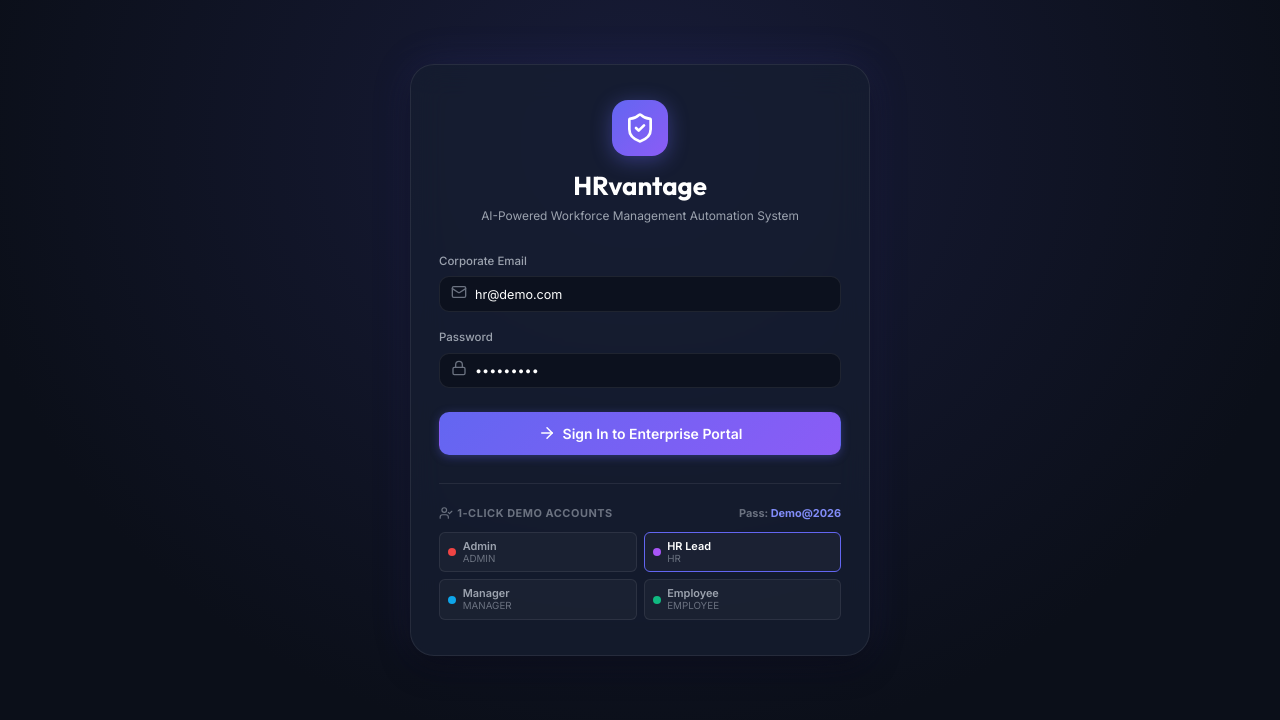
it: Authentication & Login Page Tests › displays error message on invalid credentials (401)
This screenshot has width=1280, height=720.
Click the button "Sign In to Enterprise Portal": (640, 434) [439,412,841,455]
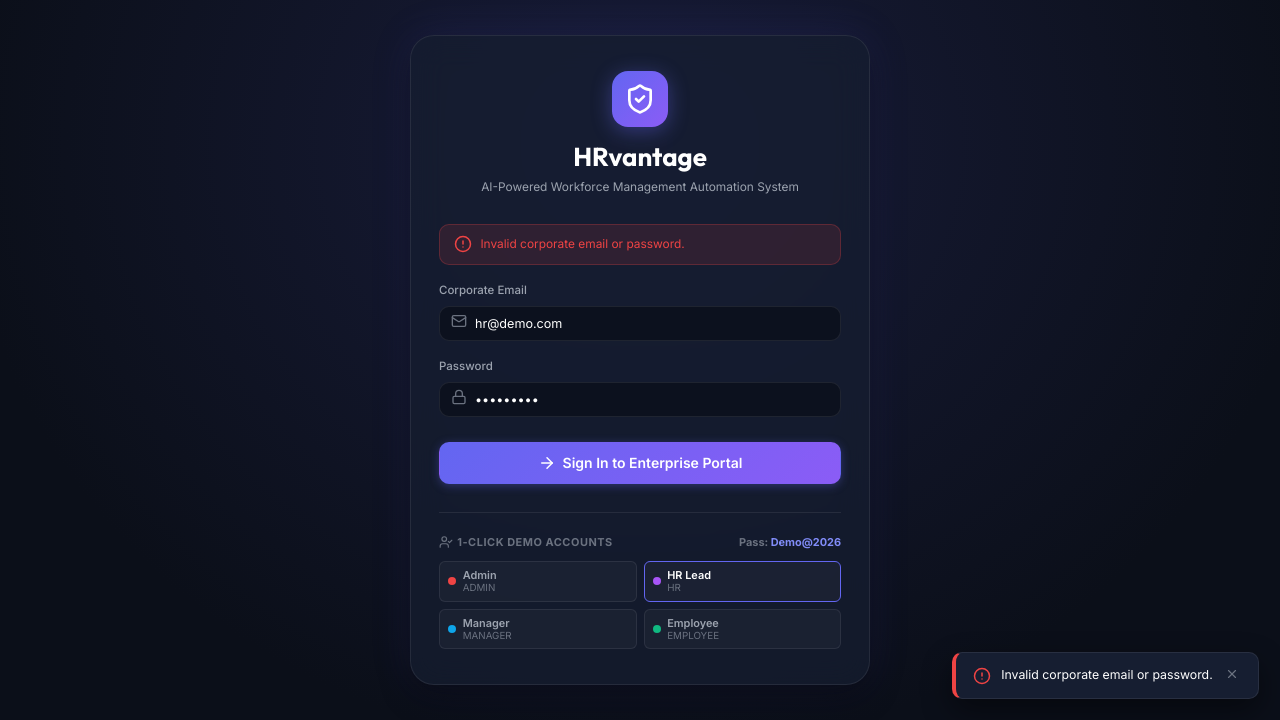
Now the text "Invalid corporate email or password." below "HRvantage" is shown, box [480,236,685,251]
